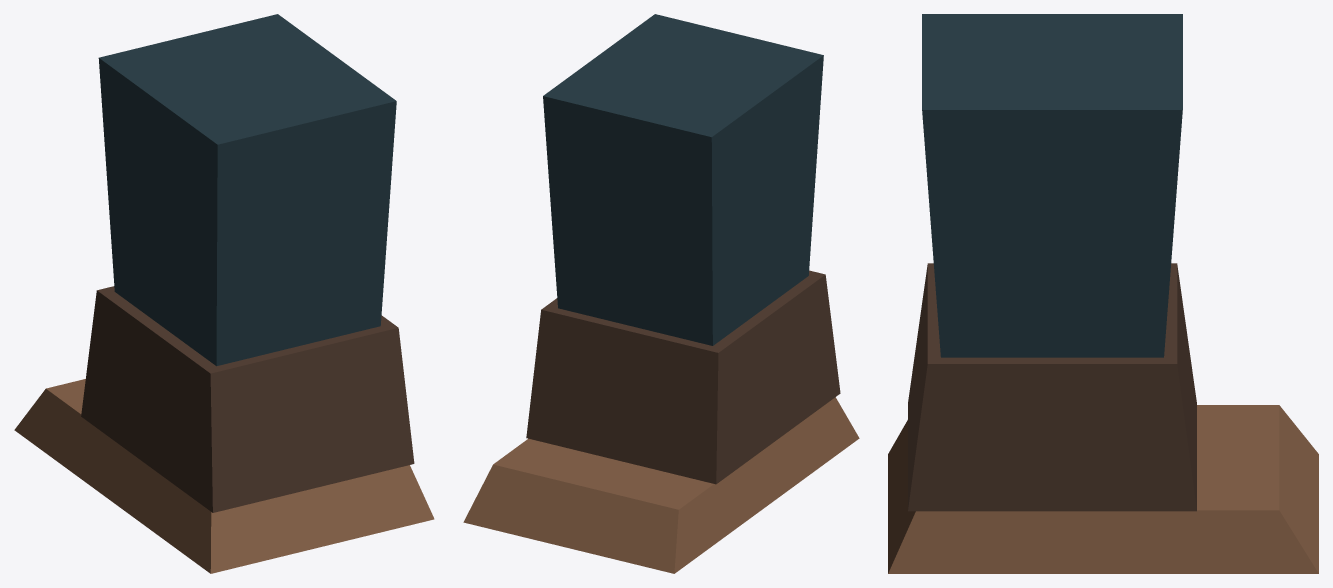
The model's file is adventurer_leg.obj.
The picture shows the model from 3 angles, left to right: view 1: azimuth 30°, elevation 25°; view 2: azimuth 150°, elevation 25°; view 3: azimuth 270°, elevation 25°; orthographic projection. The views are drawn at different scales.
Visible parts, largest first — view 1: AdventurerLeg; view 2: AdventurerLeg; view 3: AdventurerLeg.
Part boxes in pixels (x1,y1,x2,y2): AdventurerLeg: (14,14,434,573); AdventurerLeg: (463,14,859,573); AdventurerLeg: (888,14,1318,573).
Size of the model in its own units: 0.5 by 0.88 by 0.76.
